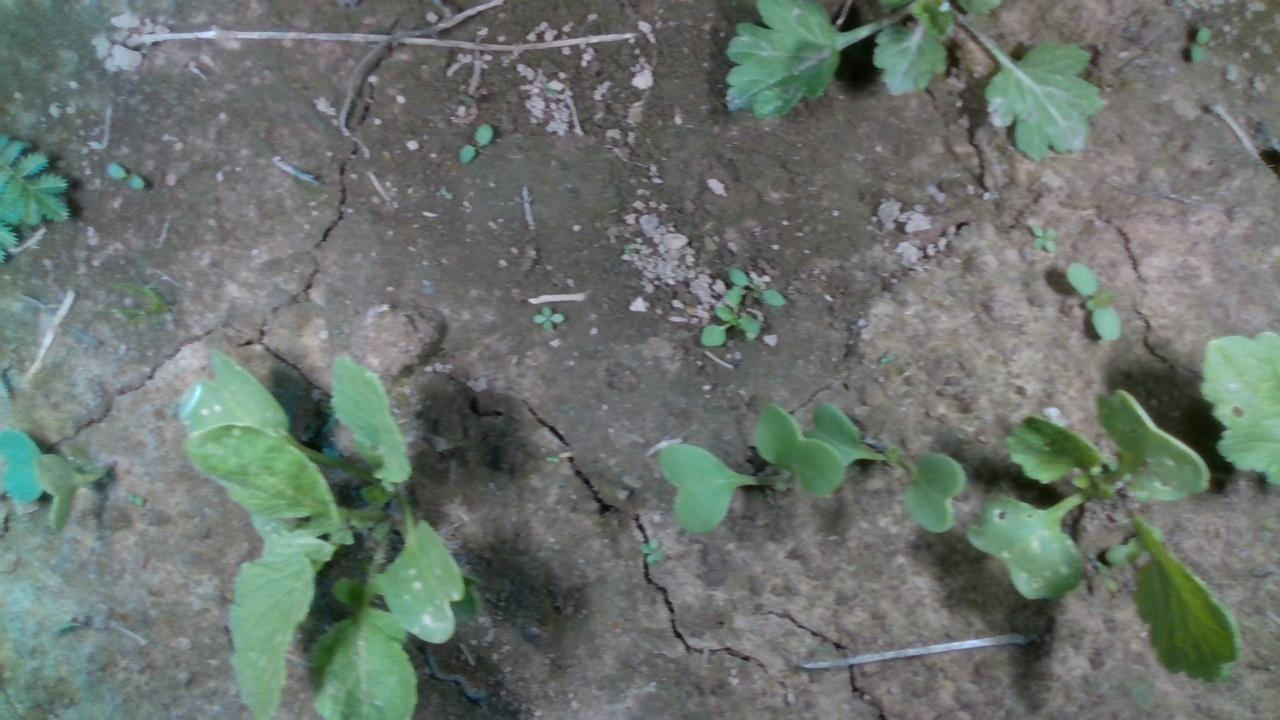weed: (1063, 260, 1122, 341), (457, 116, 491, 166), (633, 532, 676, 564), (101, 160, 144, 190), (528, 301, 568, 333), (1028, 222, 1060, 256)
